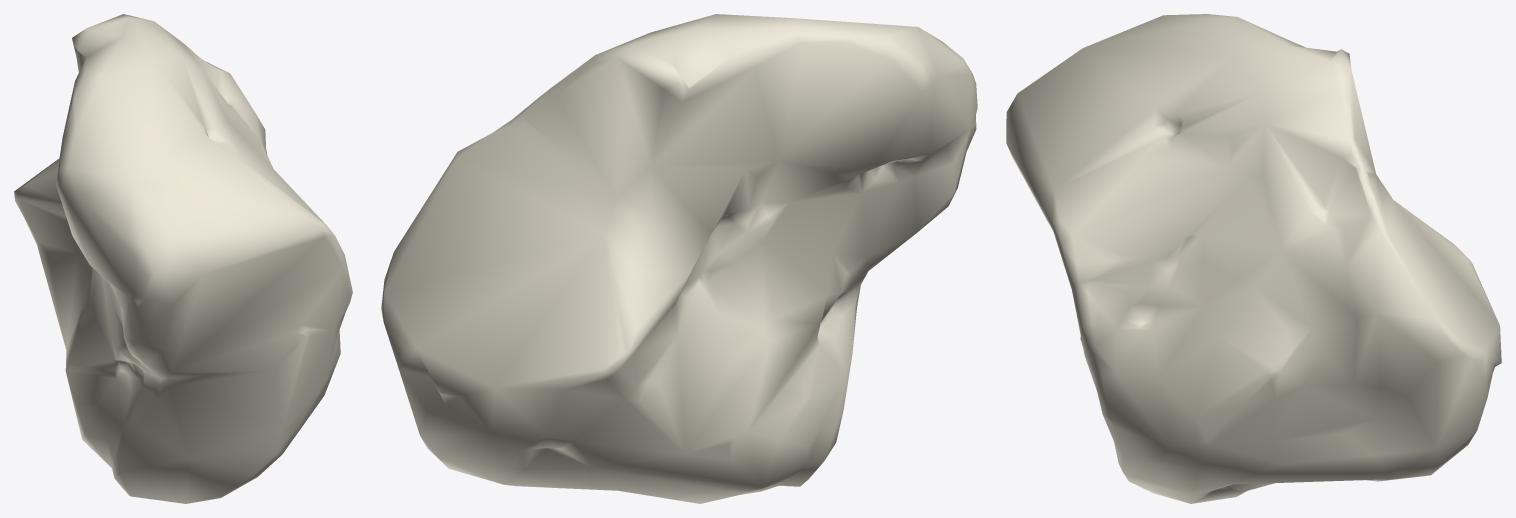
The picture shows the model from 3 angles, left to right: view 1: azimuth 30°, elevation 25°; view 2: azimuth 150°, elevation 25°; view 3: azimuth 270°, elevation 25°; orthographic projection. The views are drawn at different scales.
Parts seen in each view (by area): view 1: ZA_695e146b531271c3; view 2: ZA_695e146b531271c3; view 3: ZA_695e146b531271c3.
Boxes of the visible parts, left/top/right/bottom form: ZA_695e146b531271c3: left=14, top=14, right=352, bottom=503; ZA_695e146b531271c3: left=381, top=14, right=977, bottom=503; ZA_695e146b531271c3: left=1006, top=14, right=1501, bottom=503.
Bounding box in the file's own units: 0.0251 × 0.0323 × 0.033.
